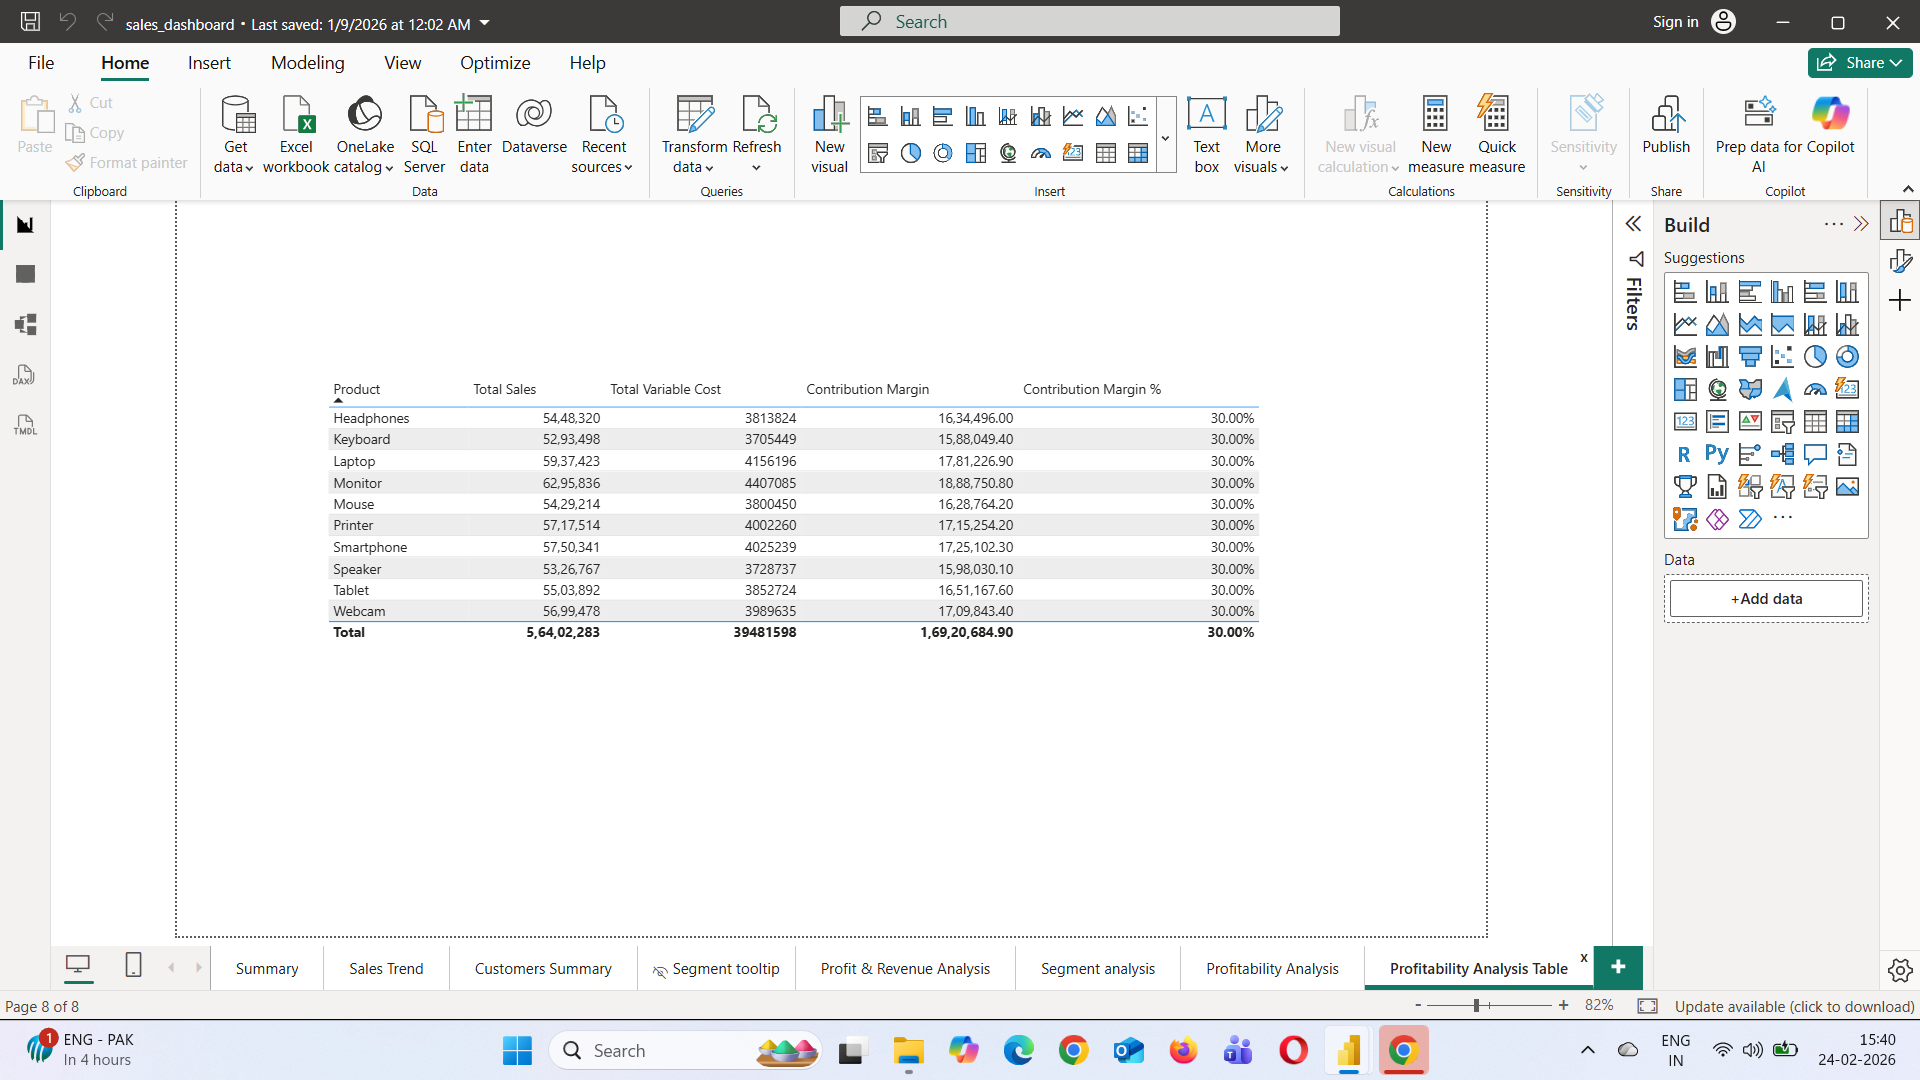

The dashboard page shown, as its layout file describes it:
{"tool":"powerbi","page":{"name":"Profitability Analysis Table","canvas":[1280,720],"ordinal":7},"visuals":[{"type":"tableEx","fields":{"Values":["SalesData.Product","_All Measures.Total Sales","_All Measures.Total Variable Cost","_All Measures.Contribution Margin","_All Measures.Contribution Margin %"]},"box":[141.8,168.8,933,284.9],"z":0}]}

Visuals, with their boxes on the page's 1280x720 design canvas (x1, y1, x2, y2). These are canvas units, not pixel positions in the 1920x1080 screenshot, which may show the page scaled, cropped or inside an application window:
tableEx - SalesData.Product x _All Measures.Total Sales: (142,169,1075,454)
